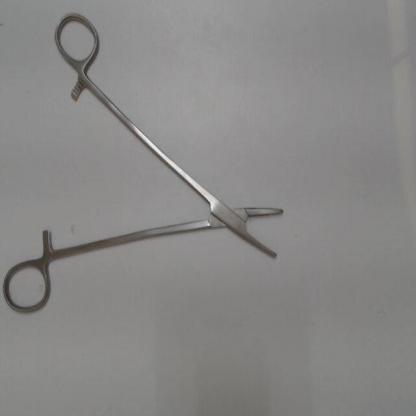8 Mayo Needle Holder: (0, 4, 298, 321)
